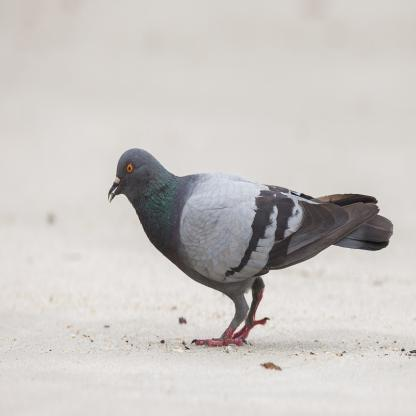Rock Pigeon: (102, 149, 397, 302)
